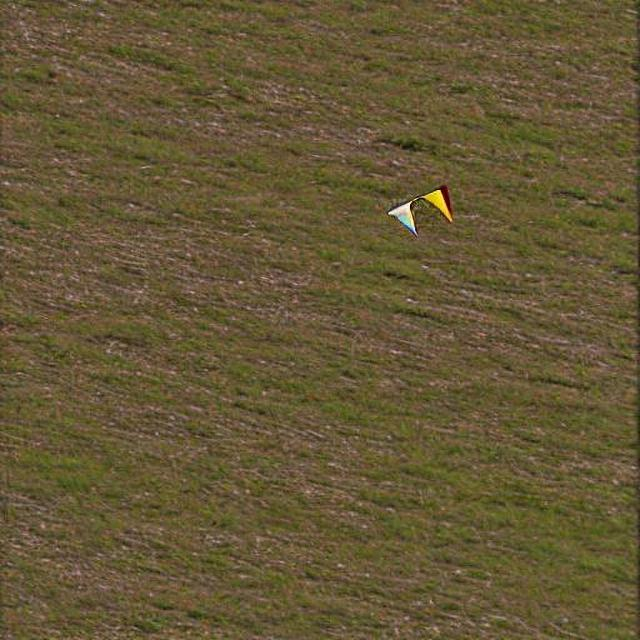floating object: (416, 177, 462, 223), (387, 202, 421, 238)
